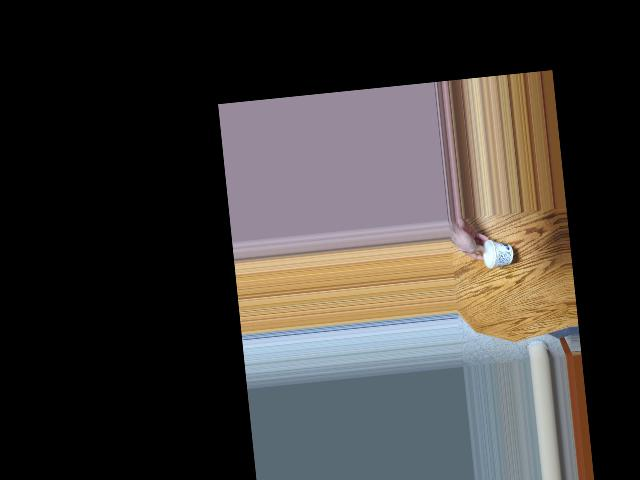cotage: (476, 237, 510, 272)
